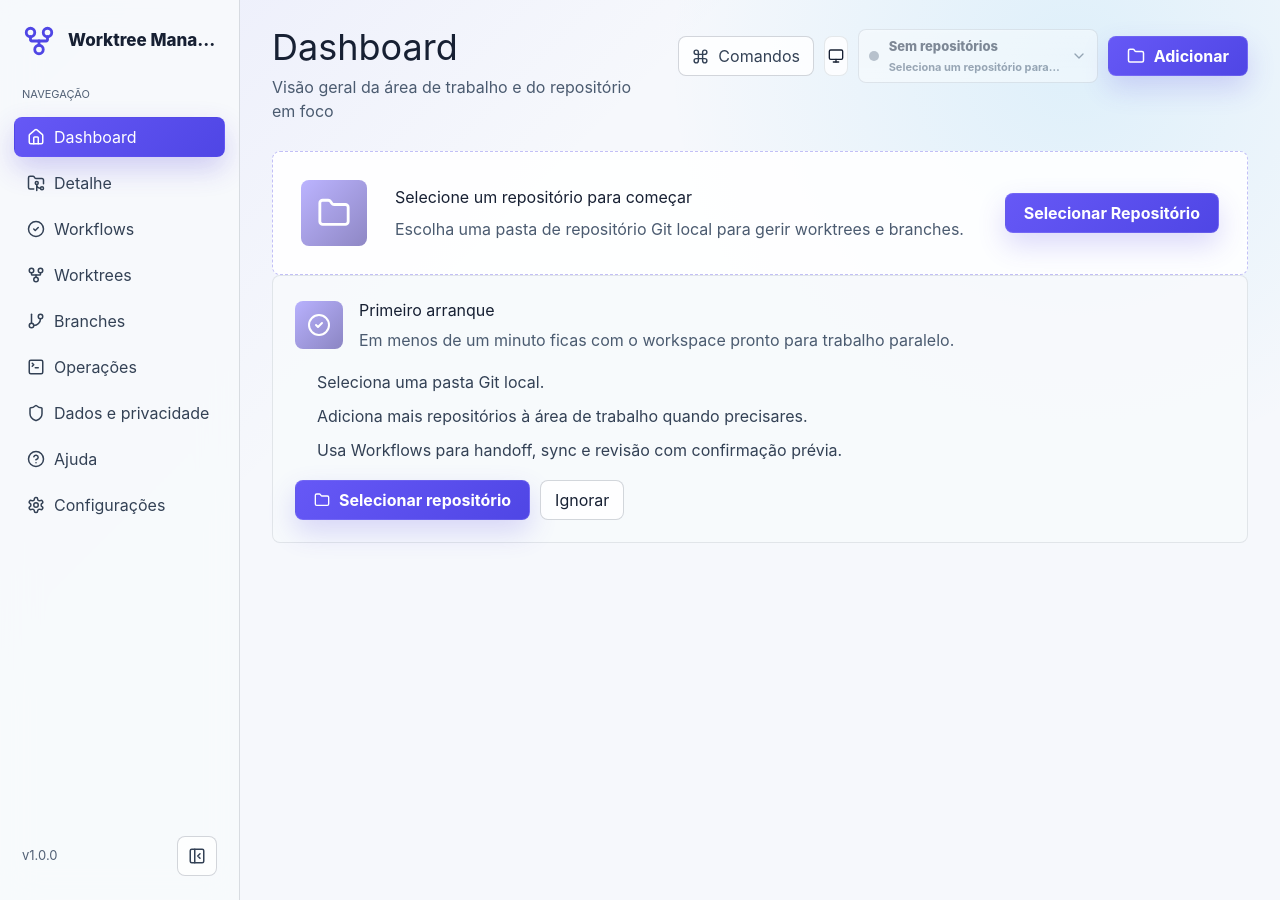
Test case: App › collapses and expands the sidebar from the footer control
Expected: the heading "Selecione um repositório para começar" is shown, [395,187,692,207]
Click the button named "Colapsar barra lateral" at (197, 856), box [177,836,217,876]
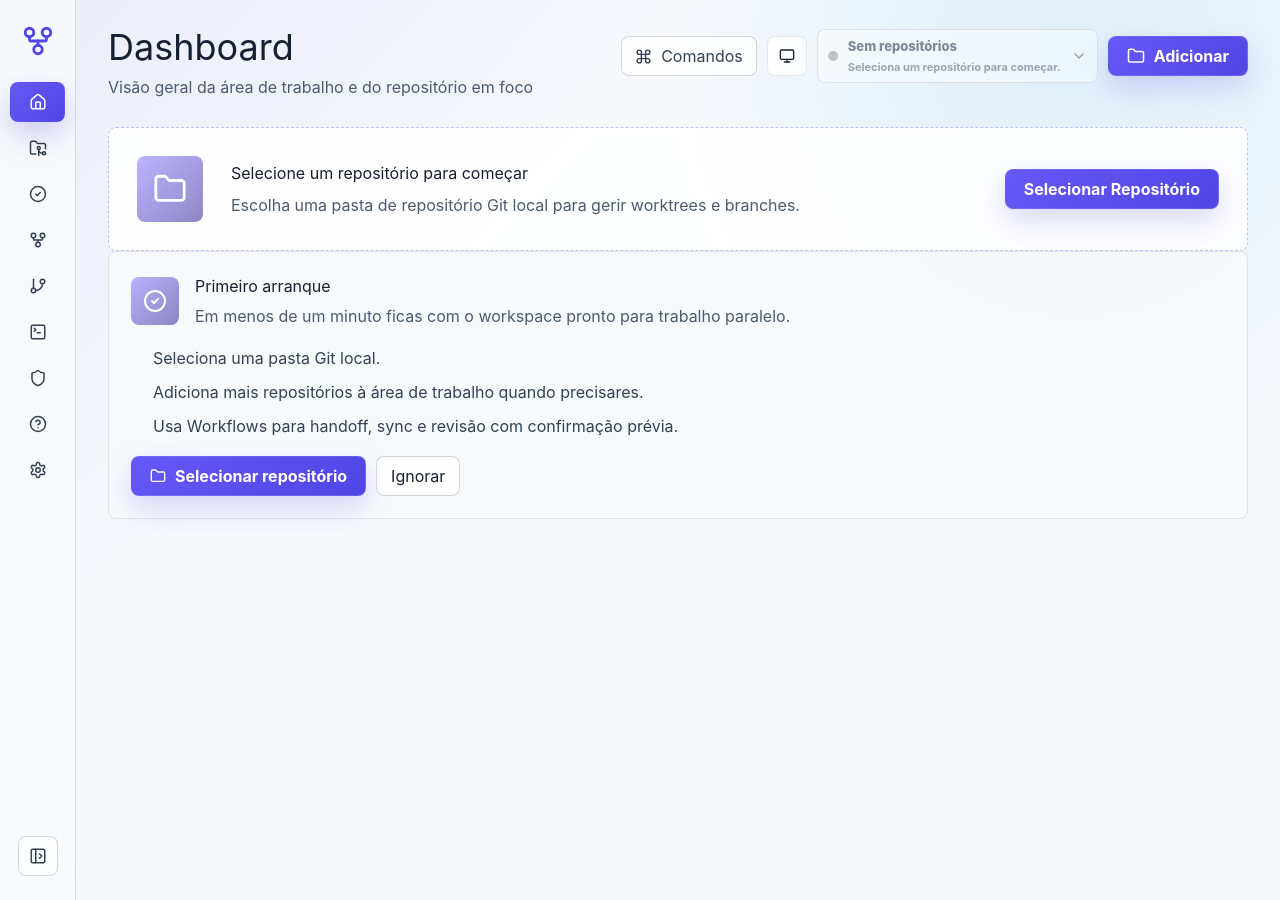
Now the element with class "sidebar-collapsed" is shown
Now the button named "Expandir barra lateral" is shown
Click the button named "Expandir barra lateral" at (38, 856), box [18,836,58,876]
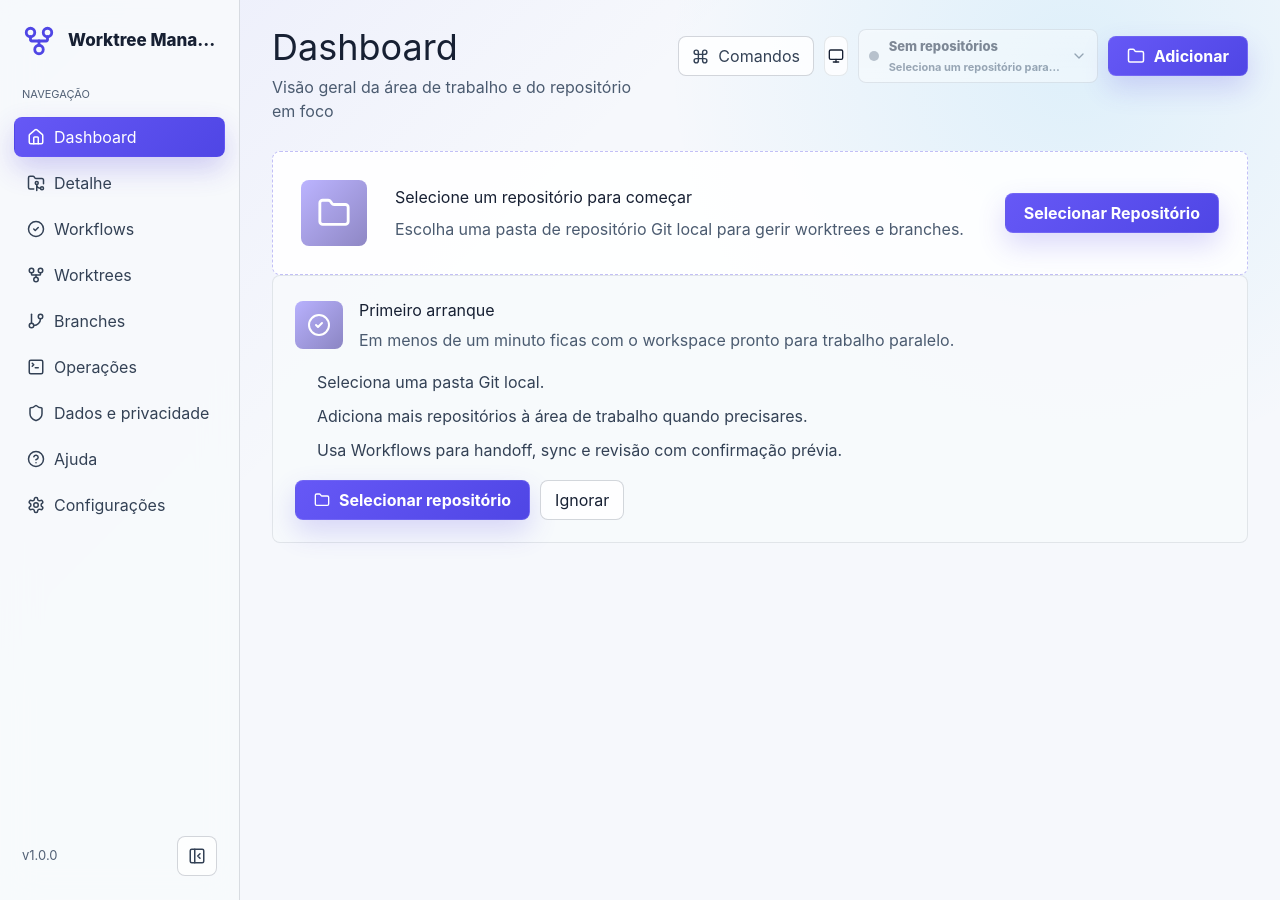
Now the button named "Colapsar barra lateral" is shown, box [177,836,217,876]
